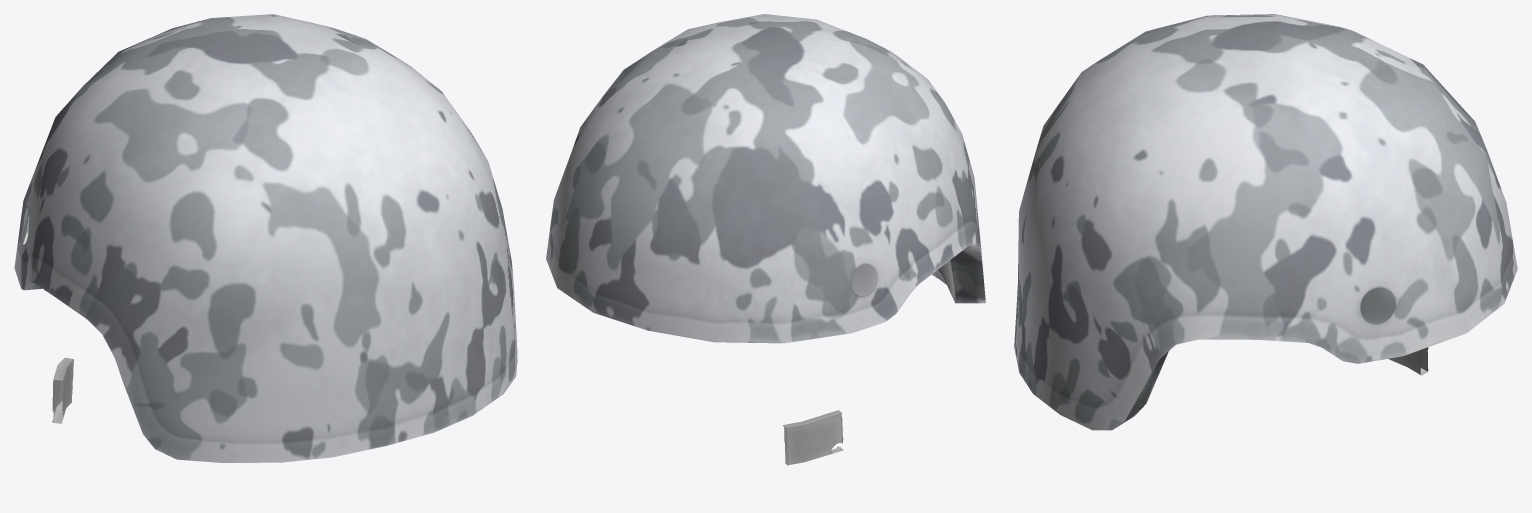
The model's file is IG_Helmat_Lv3-2_Snow.fbx.
The picture shows the model from 3 angles, left to right: view 1: azimuth 30°, elevation 25°; view 2: azimuth 150°, elevation 25°; view 3: azimuth 270°, elevation 25°; orthographic projection. The views are drawn at different scales.
Parts seen in each view (by area): view 1: HighcomStriker_Snow; view 2: HighcomStriker_Snow; view 3: HighcomStriker_Snow.
Part boxes in pixels (<box>): HighcomStriker_Snow: <box>14,14,517,462</box>; HighcomStriker_Snow: <box>546,14,985,465</box>; HighcomStriker_Snow: <box>1014,14,1517,430</box>.
Bounding box in the file's own units: 0.5798 × 0.5836 × 0.6188.
